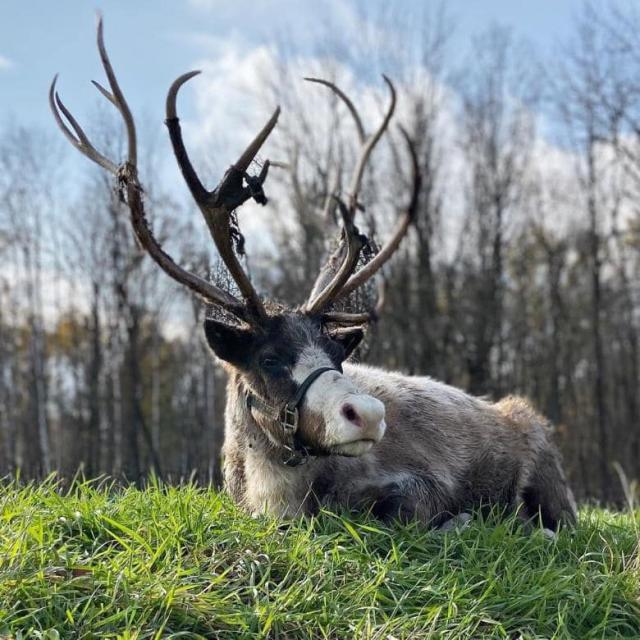Reindeer: (36, 9, 574, 532)
